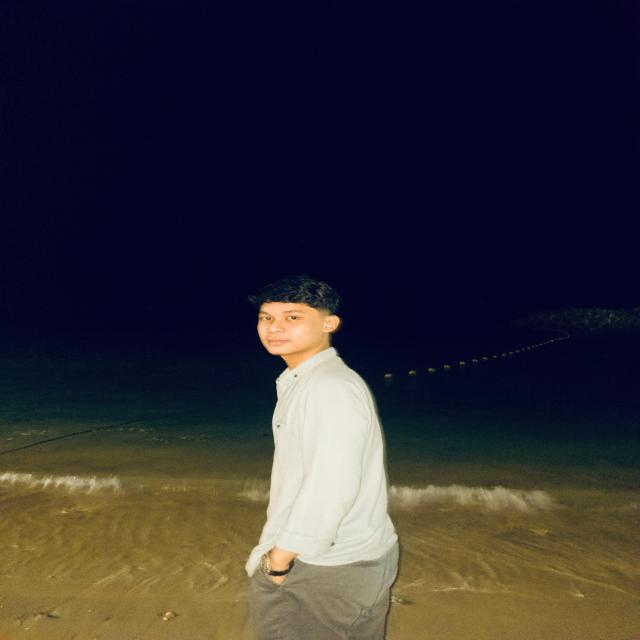nohelmet: (254, 262, 347, 366)
